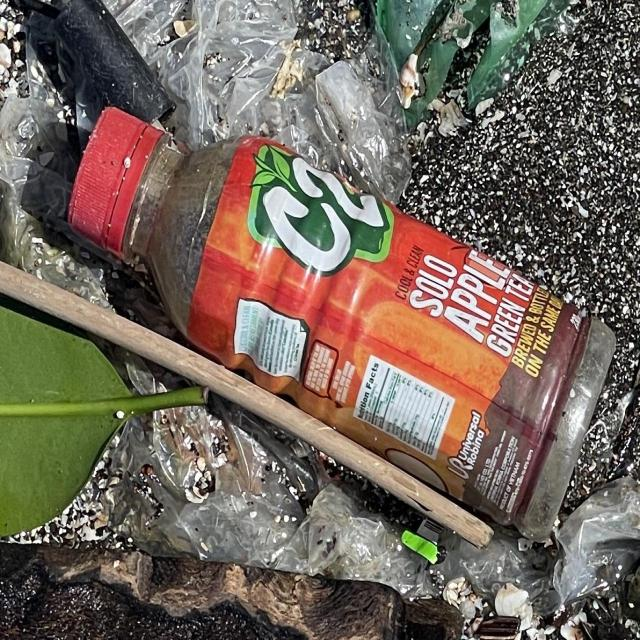plastic_waste: (68, 107, 613, 553)
